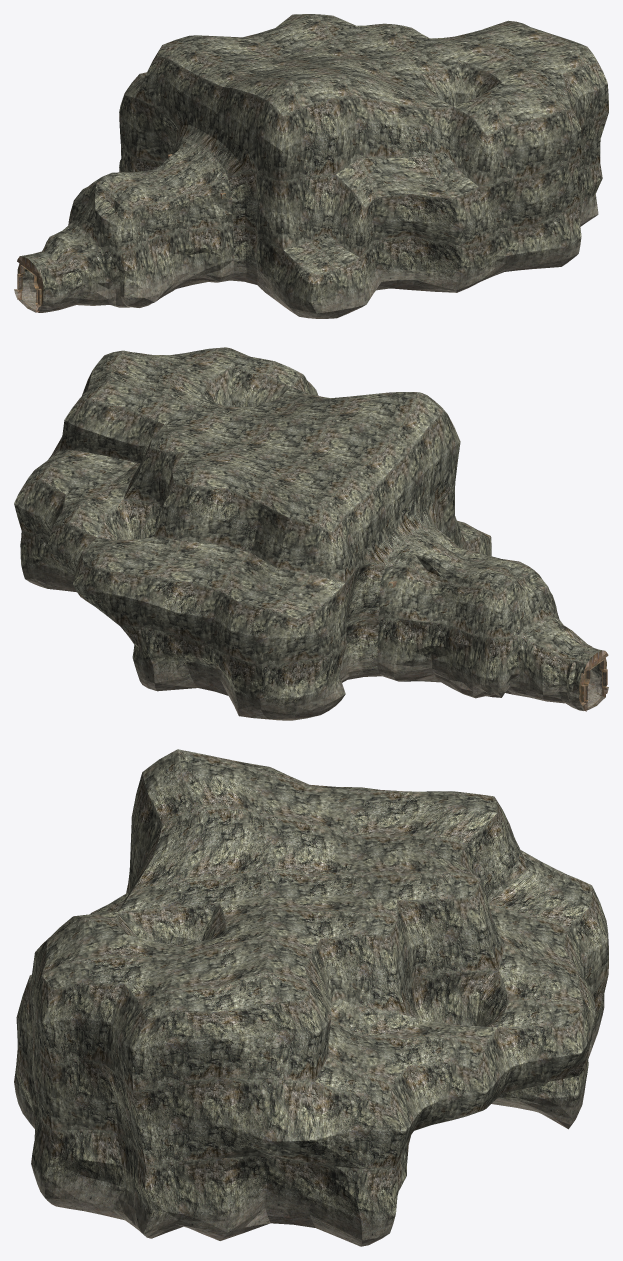
The model's file is poi_all_bunker_allum_mine_r48_largeroom48_mesh_r48.fbx.
3 renders of one model, top to bottom at view 1: azimuth 30°, elevation 25°; view 2: azimuth 150°, elevation 25°; view 3: azimuth 270°, elevation 25°, orthographic. The views are drawn at different scales.
Parts seen in each view (by area): view 1: mesh_node; view 2: mesh_node; view 3: mesh_node.
Part boxes in pixels (x1=…): mesh_node: x1=14, y1=14, x2=608, y2=318; mesh_node: x1=14, y1=347, x2=608, y2=720; mesh_node: x1=14, y1=749, x2=608, y2=1246.
Bounding box in the file's own units: 75.69 × 29.04 × 51.56.
